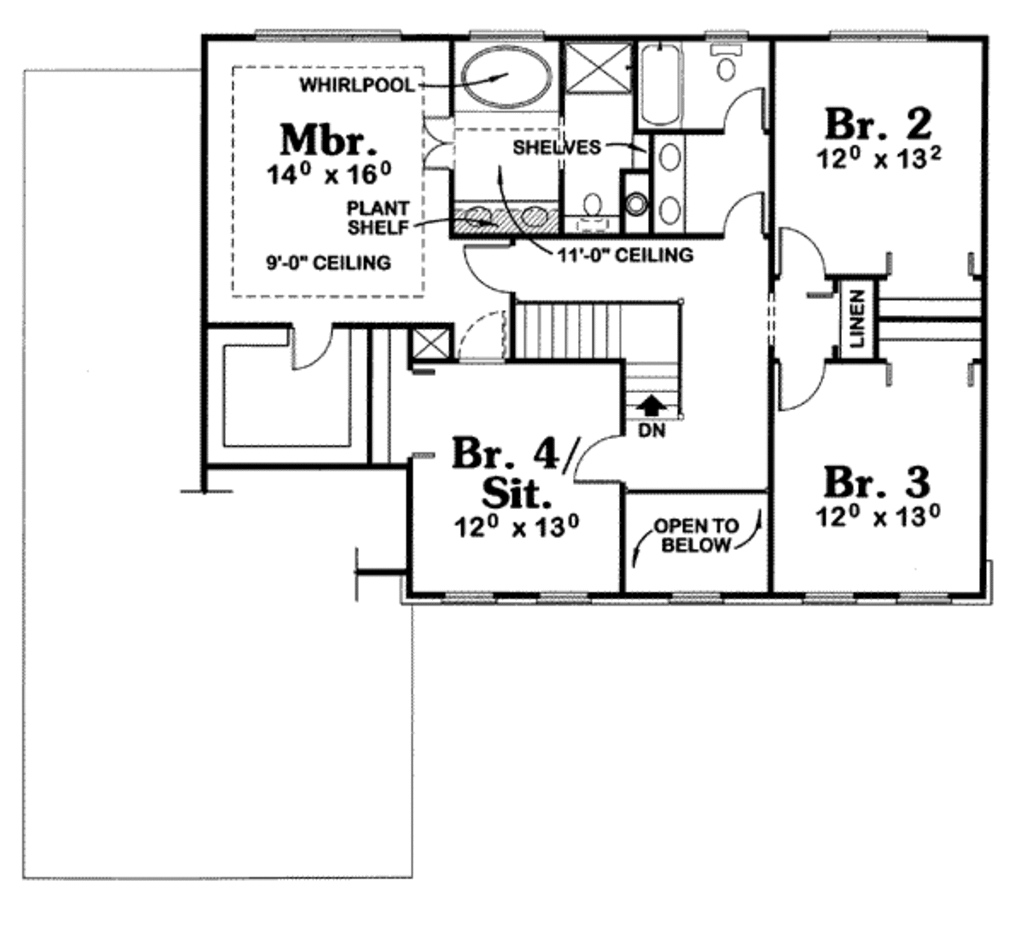door: (768, 359, 832, 416), (566, 433, 633, 487), (280, 315, 340, 374), (773, 228, 837, 283), (418, 109, 460, 177), (716, 81, 766, 137), (722, 186, 767, 244)
large_sink: (569, 189, 624, 236), (707, 41, 750, 89)
small_sink: (447, 199, 564, 242), (650, 134, 689, 235)
stairs: (510, 294, 680, 425)
tub: (447, 42, 569, 118), (628, 33, 685, 129)
window: (249, 22, 405, 52), (821, 26, 929, 48), (663, 588, 737, 615), (795, 592, 870, 618), (891, 587, 952, 610), (435, 589, 500, 606), (535, 590, 597, 604)
